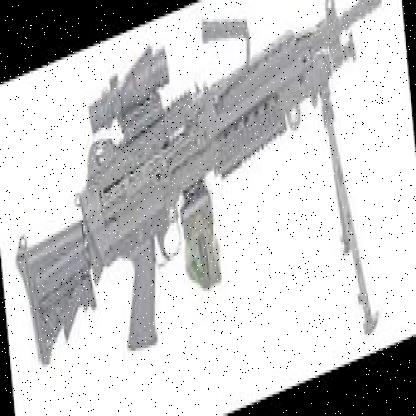rifle: (2, 0, 404, 408)
